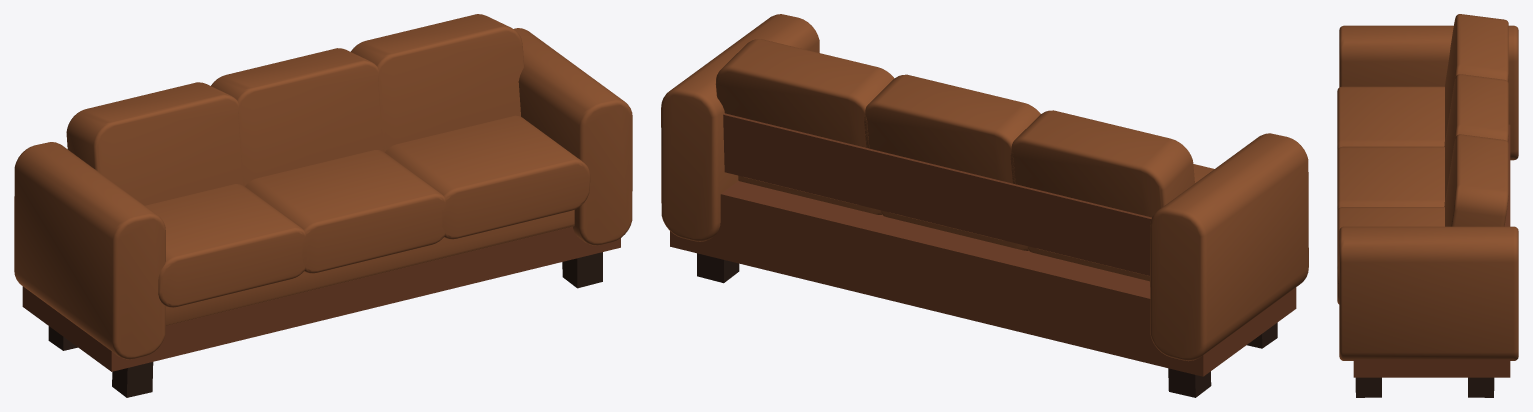
The model's file is cognac-leather-sofa-bevelThickness-max.glb.
3 views of the same model, side by side, from view 1: azimuth 30°, elevation 25°; view 2: azimuth 150°, elevation 25°; view 3: azimuth 270°, elevation 25° (orthographic). The views are drawn at different scales.
Parts seen in each view (by area): view 1: sofa-part-28, sofa-part-4, back-cushion-2-part-0, back-cushion-3-part-0, back-cushion-1-part-0, seat-cushion-1-part-0, seat-cushion-2-part-0, seat-cushion-3-part-0, sofa-part-7, sofa-part-5, sofa-part-2, sofa-part-0; view 2: sofa-part-4, sofa-part-28, sofa-part-6, back-cushion-3-part-0, back-cushion-1-part-0, back-cushion-2-part-0, sofa-part-7, sofa-part-3, seat-cushion-3-part-0, sofa-part-1, seat-cushion-2-part-0, seat-cushion-1-part-0; view 3: sofa-part-7, sofa-part-28, seat-cushion-3-part-0, seat-cushion-2-part-0, back-cushion-1-part-0, back-cushion-2-part-0, back-cushion-3-part-0, sofa-part-4, seat-cushion-1-part-0, sofa-part-0, sofa-part-1.
Boxes of the visible parts, left/top/right/bottom form: sofa-part-28: left=14, top=142, right=165, bottom=359; sofa-part-4: left=22, top=226, right=620, bottom=371; back-cushion-2-part-0: left=211, top=48, right=385, bottom=186; back-cushion-3-part-0: left=66, top=82, right=245, bottom=205; back-cushion-1-part-0: left=351, top=14, right=524, bottom=152; seat-cushion-1-part-0: left=385, top=115, right=590, bottom=239; seat-cushion-2-part-0: left=245, top=150, right=448, bottom=273; seat-cushion-3-part-0: left=145, top=184, right=308, bottom=307; sofa-part-7: left=514, top=28, right=632, bottom=245; sofa-part-5: left=165, top=210, right=574, bottom=325; sofa-part-2: left=112, top=362, right=153, bottom=397; sofa-part-0: left=562, top=252, right=602, bottom=288; sofa-part-4: left=670, top=181, right=1296, bottom=376; sofa-part-28: left=1150, top=133, right=1308, bottom=361; sofa-part-6: left=723, top=113, right=1151, bottom=275; back-cushion-3-part-0: left=1010, top=110, right=1194, bottom=275; back-cushion-1-part-0: left=715, top=39, right=894, bottom=204; back-cushion-2-part-0: left=864, top=74, right=1040, bottom=240; sofa-part-7: left=661, top=14, right=819, bottom=241; sofa-part-3: left=1168, top=368, right=1211, bottom=397; seat-cushion-3-part-0: left=1028, top=164, right=1214, bottom=281; sofa-part-1: left=697, top=253, right=739, bottom=283; seat-cushion-2-part-0: left=881, top=210, right=1028, bottom=250; seat-cushion-1-part-0: left=738, top=175, right=881, bottom=214; sofa-part-7: left=1339, top=226, right=1518, bottom=360; sofa-part-28: left=1339, top=25, right=1518, bottom=160; seat-cushion-3-part-0: left=1337, top=86, right=1444, bottom=150; seat-cushion-2-part-0: left=1337, top=146, right=1444, bottom=210; back-cushion-1-part-0: left=1444, top=134, right=1508, bottom=226; back-cushion-2-part-0: left=1444, top=74, right=1508, bottom=203; back-cushion-3-part-0: left=1444, top=14, right=1508, bottom=143; sofa-part-4: left=1353, top=124, right=1510, bottom=377; seat-cushion-1-part-0: left=1337, top=207, right=1444, bottom=304; sofa-part-0: left=1355, top=377, right=1381, bottom=397; sofa-part-1: left=1468, top=377, right=1494, bottom=397.
Size of the model in its own units: 2.64 by 1.08 by 0.9.
